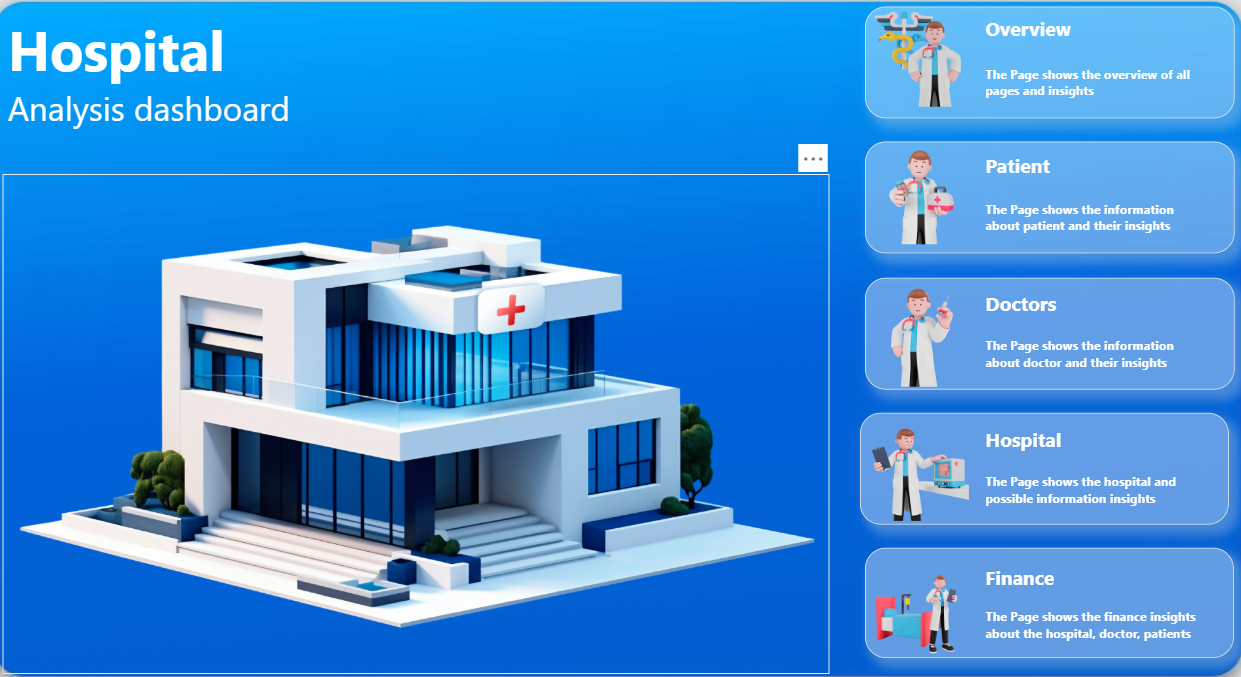

Layout of this report page (visuals, bound fields, positions):
{"tool":"powerbi","page":{"name":"Home","canvas":[1280,720],"ordinal":0},"visuals":[{"type":"image","box":[45.8,197.7,797.8,482.7],"z":0},{"type":"textbox","box":[45.8,35.8,797.8,160.4],"z":1000},{"type":"shape","box":[877.9,36.7,356.7,108],"z":2000},{"type":"shape","box":[877.9,167,356.7,108],"z":3000},{"type":"shape","box":[877.9,297.4,356.7,108],"z":4000},{"type":"shape","box":[873.2,427.8,356.3,108.2],"z":5000},{"type":"shape","box":[878,558.3,356.3,106.6],"z":6000},{"type":"image","box":[855.7,563.1,147.9,108.2],"z":7000},{"type":"image","box":[856,298.8,148.3,109],"z":8000},{"type":"image","box":[856,162.1,148.3,109],"z":9000},{"type":"image","box":[856.6,29.3,148,109],"z":10000},{"type":"image","box":[855.7,429.5,147.9,108.2],"z":11000},{"type":"actionButton","box":[991,40,113.3,35],"z":12000},{"type":"actionButton","box":[991,172.4,113.3,35],"z":13000},{"type":"actionButton","box":[991,304.7,113.3,35],"z":14000},{"type":"actionButton","box":[991,437.1,113.3,35],"z":15000},{"type":"actionButton","box":[991,569.4,112.9,35],"z":16000},{"type":"actionButton","box":[991,76.7,221.7,63.3],"z":17000},{"type":"actionButton","box":[991,207.8,221.7,63.3],"z":18000},{"type":"actionButton","box":[991,339,221.7,63.3],"z":19000},{"type":"actionButton","box":[991,470.1,221.7,63.3],"z":20000},{"type":"actionButton","box":[991,601.3,221.1,63.6],"z":21000},{"type":"actionButton","box":[878,30.2,356.3,108.2],"z":22000},{"type":"actionButton","box":[878,167,356.3,108.2],"z":23000},{"type":"actionButton","box":[878,294.3,356.3,108.2],"z":24000},{"type":"actionButton","box":[873.2,429.5,356.3,106.6],"z":25000},{"type":"actionButton","box":[878,558.3,356.3,108.2],"z":26000}]}

Visuals, with their boxes on the page's 1280x720 design canvas (x1, y1, x2, y2). These are canvas units, not pixel positions in the 1241x677 screenshot, which may show the page scaled, cropped or inside an application window:
image: pyautogui.locateOnScreen(46, 198, 844, 680)
textbox: pyautogui.locateOnScreen(46, 36, 844, 196)
shape: pyautogui.locateOnScreen(878, 37, 1235, 145)
shape: pyautogui.locateOnScreen(878, 167, 1235, 275)
shape: pyautogui.locateOnScreen(878, 297, 1235, 405)
shape: pyautogui.locateOnScreen(873, 428, 1230, 536)
shape: pyautogui.locateOnScreen(878, 558, 1234, 665)
image: pyautogui.locateOnScreen(856, 563, 1004, 671)
image: pyautogui.locateOnScreen(856, 299, 1004, 408)
image: pyautogui.locateOnScreen(856, 162, 1004, 271)
image: pyautogui.locateOnScreen(857, 29, 1005, 138)
image: pyautogui.locateOnScreen(856, 430, 1004, 538)
actionButton: pyautogui.locateOnScreen(991, 40, 1104, 75)
actionButton: pyautogui.locateOnScreen(991, 172, 1104, 207)
actionButton: pyautogui.locateOnScreen(991, 305, 1104, 340)
actionButton: pyautogui.locateOnScreen(991, 437, 1104, 472)
actionButton: pyautogui.locateOnScreen(991, 569, 1104, 604)
actionButton: pyautogui.locateOnScreen(991, 77, 1213, 140)
actionButton: pyautogui.locateOnScreen(991, 208, 1213, 271)
actionButton: pyautogui.locateOnScreen(991, 339, 1213, 402)
actionButton: pyautogui.locateOnScreen(991, 470, 1213, 533)
actionButton: pyautogui.locateOnScreen(991, 601, 1212, 665)
actionButton: pyautogui.locateOnScreen(878, 30, 1234, 138)
actionButton: pyautogui.locateOnScreen(878, 167, 1234, 275)
actionButton: pyautogui.locateOnScreen(878, 294, 1234, 402)
actionButton: pyautogui.locateOnScreen(873, 430, 1230, 536)
actionButton: pyautogui.locateOnScreen(878, 558, 1234, 666)
